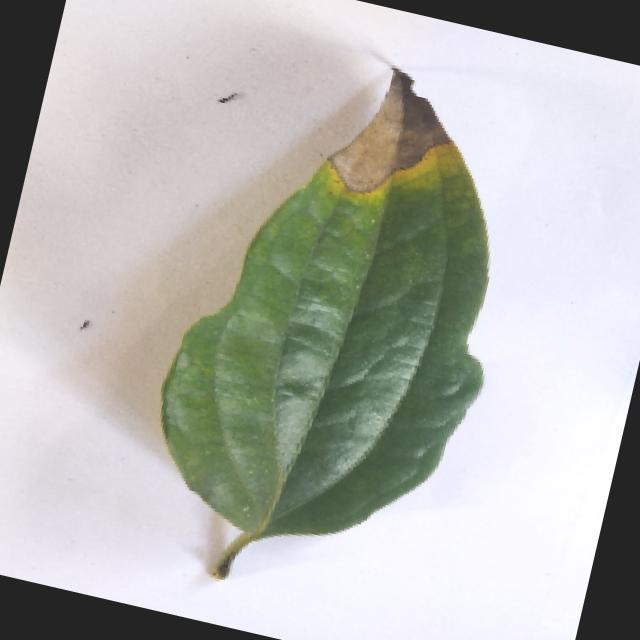footrot: (118, 29, 546, 624)
